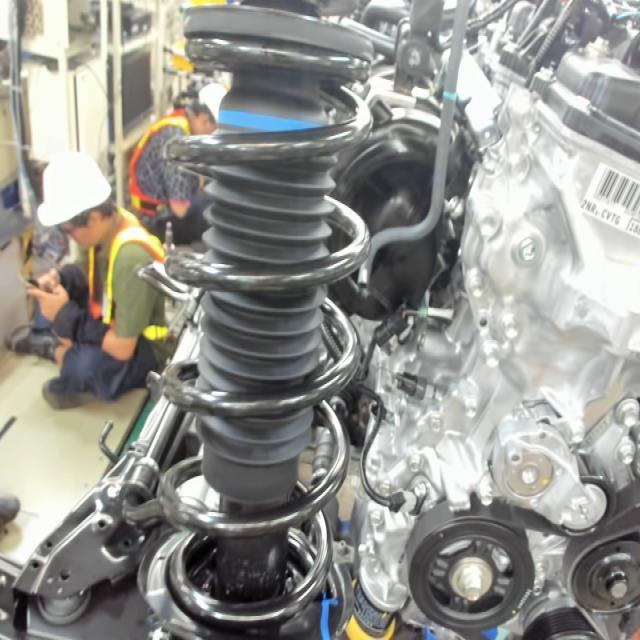Bumper-BR: (217, 97, 333, 137)
Hose Canister-HJ: (442, 88, 462, 102)
